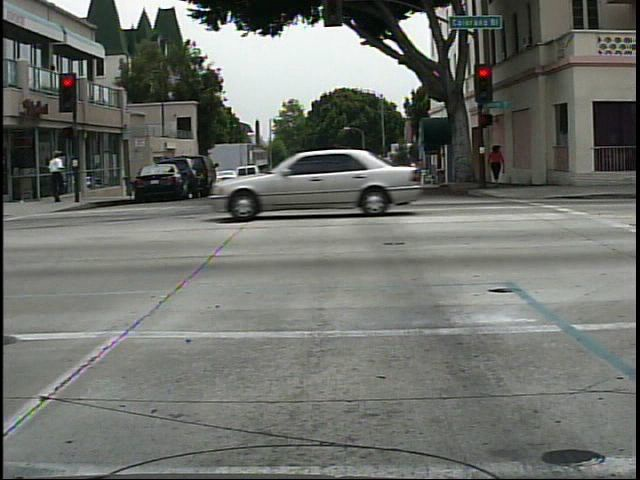person: (47, 144, 70, 206), (487, 137, 511, 191)
